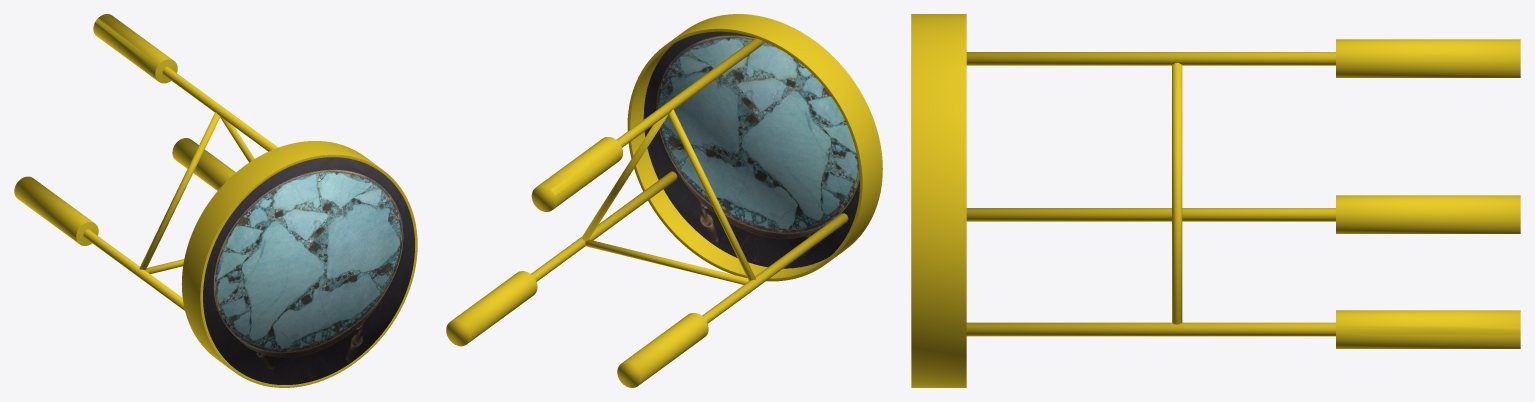
File: nightstand.obj
The picture shows the model from 3 angles, left to right: view 1: azimuth 30°, elevation 25°; view 2: azimuth 150°, elevation 25°; view 3: azimuth 270°, elevation 25°; orthographic projection. The views are drawn at different scales.
Parts seen in each view (by area): view 1: Shape0011, Cylinder001, Cylinder002, Cylinder003, Line001, Cylinder004; view 2: Shape001, Cylinder001, Cylinder003, Cylinder002, Cylinder004, Line001; view 3: Cylinder001, Cylinder004, Cylinder002, Cylinder003, Line001.
Boxes of the visible parts, <box> form: Shape0011: <box>203,157,414,384</box>; Cylinder001: <box>181,141,417,387</box>; Cylinder002: <box>93,14,277,151</box>; Cylinder003: <box>14,176,184,310</box>; Line001: <box>139,112,254,273</box>; Cylinder004: <box>172,138,235,190</box>; Shape001: <box>643,31,859,268</box>; Cylinder001: <box>627,14,882,281</box>; Cylinder003: <box>617,213,848,387</box>; Cylinder002: <box>531,38,762,211</box>; Cylinder004: <box>446,171,677,346</box>; Line001: <box>581,109,755,284</box>; Cylinder001: <box>911,14,966,387</box>; Cylinder004: <box>966,310,1520,348</box>; Cylinder002: <box>966,39,1520,77</box>; Cylinder003: <box>966,195,1520,233</box>; Line001: <box>1172,63,1182,324</box>.
Bounding box in the file's own units: 40.52 × 40.52 × 66.
